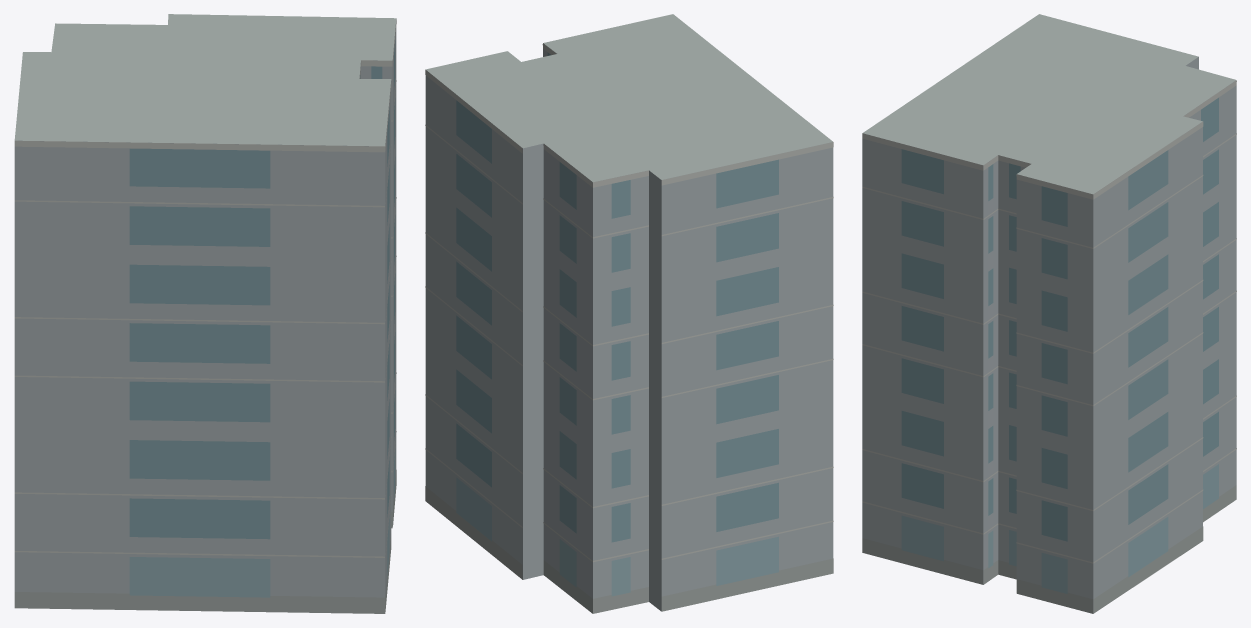
The model's file is survey-upis-33044145.glb.
3 renders of one model, left to right at view 1: azimuth 30°, elevation 25°; view 2: azimuth 150°, elevation 25°; view 3: azimuth 270°, elevation 25°, orthographic. The views are drawn at different scales.
Parts seen in each view (by area): view 1: survey-upis-33044145.tmp; view 2: survey-upis-33044145.tmp; view 3: survey-upis-33044145.tmp.
Part boxes in pixels (x1,y1,x2,y2): survey-upis-33044145.tmp: [14, 14, 396, 613]; survey-upis-33044145.tmp: [425, 14, 833, 613]; survey-upis-33044145.tmp: [862, 14, 1236, 613].
Bounding box in the file's own units: 17.45 × 18.9 × 15.3.
